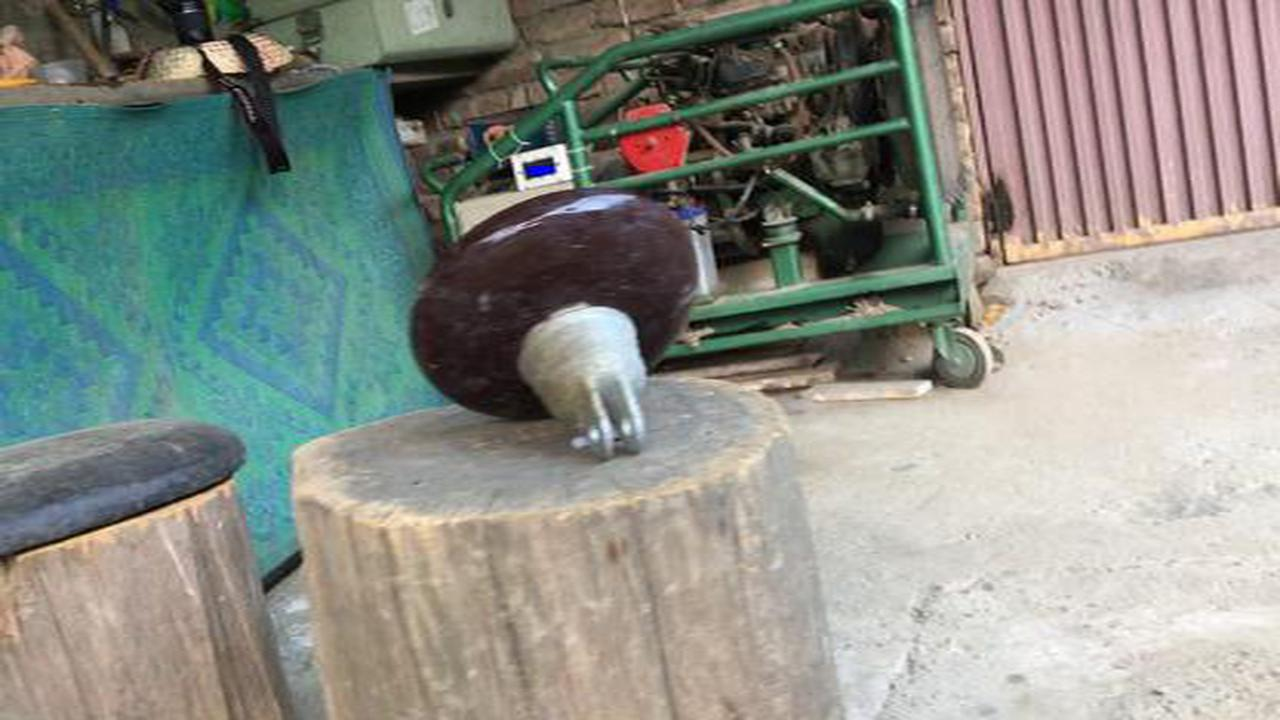insulator_disc: (406, 178, 706, 474)
